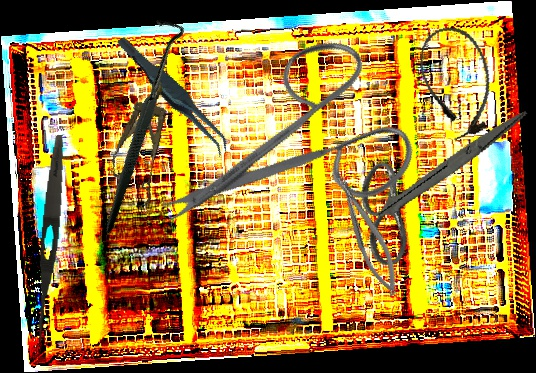Cannula: (411, 18, 504, 146)
Dressing Forceps: (31, 134, 69, 343)
Hook Surgical: (24, 10, 251, 235)
Iris Scissors: (153, 2, 445, 305), (338, 67, 529, 294)
Needle Holder: (331, 170, 406, 301)
Speculum: (102, 73, 183, 210)
Tissue Forceps: (115, 18, 233, 173)
